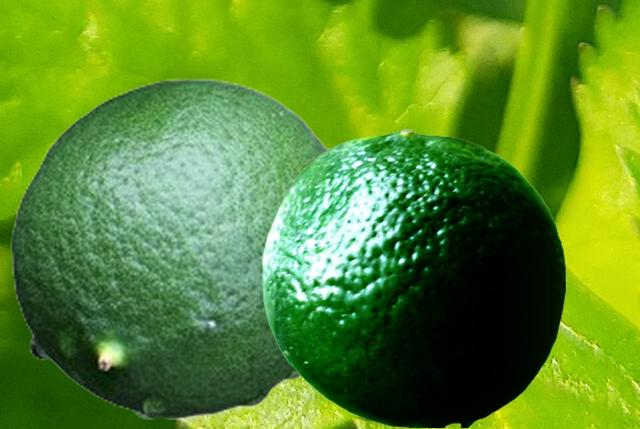calamansi: (10, 77, 334, 418), (262, 128, 565, 426)
